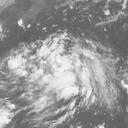cyclone: (27, 38, 116, 112)
